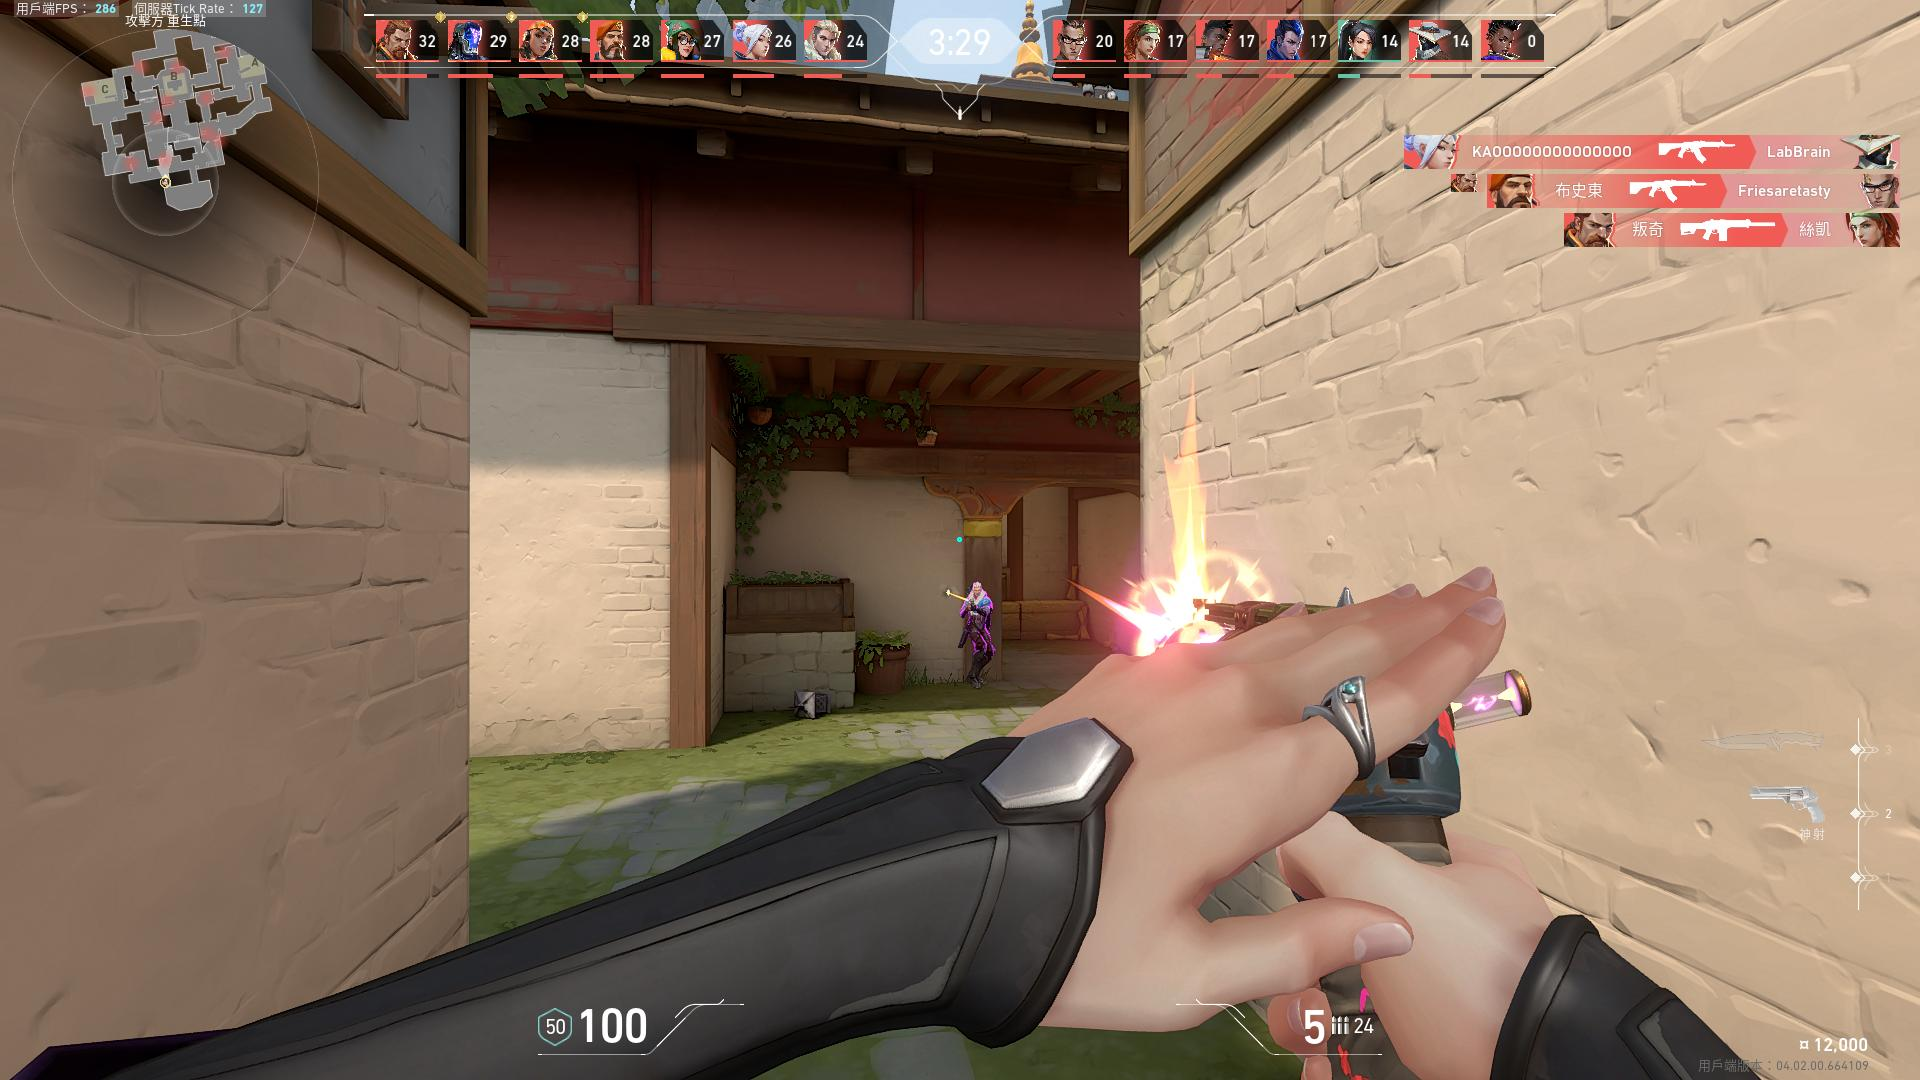enemyBody: (973, 597, 984, 628)
enemyHead: (973, 587, 981, 596)
